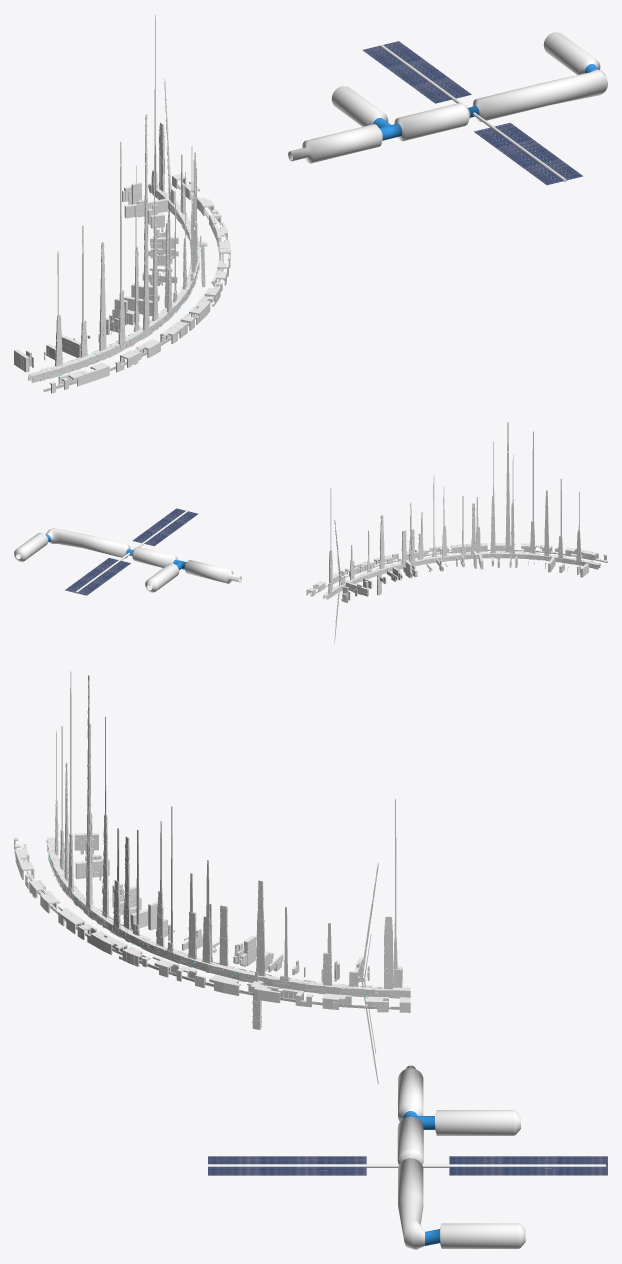
File: rjcv rjhf,km.glb
3 views of the same model, one above another, from view 1: azimuth 30°, elevation 25°; view 2: azimuth 150°, elevation 25°; view 3: azimuth 270°, elevation 25° (orthographic). The views are drawn at different scales.
Parts seen in each view (by area): view 1: Sci-Fi_Station_Interior pods, Plane; view 2: Sci-Fi_Station_Interior pods, Plane; view 3: Sci-Fi_Station_Interior pods, Plane.
Part boxes in pixels (x1,y1,x2,y2): Sci-Fi_Station_Interior pods: (14,14,230,393); Plane: (288,32,607,185); Sci-Fi_Station_Interior pods: (306,422,607,642); Plane: (14,508,241,595); Sci-Fi_Station_Interior pods: (14,671,410,1084); Plane: (208,1065,607,1249).
Size of the model in its own units: 103 by 39.84 by 65.32.
Materials: 5 (1 with a texture image).
